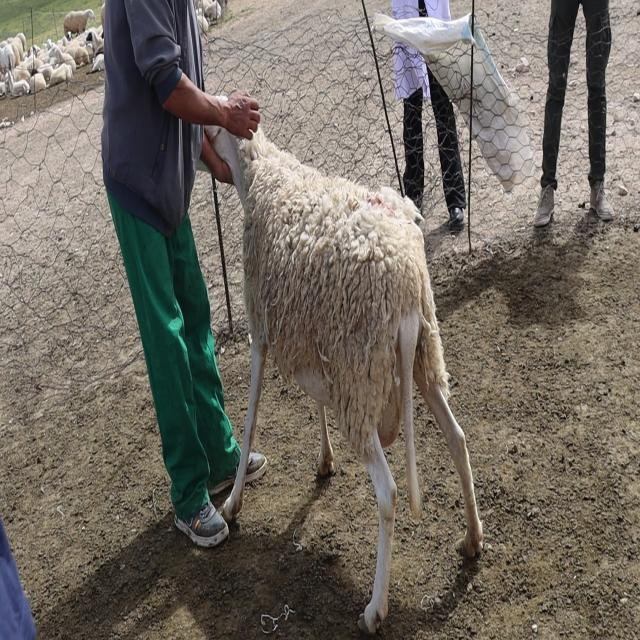Score_4: (205, 126, 483, 633)
